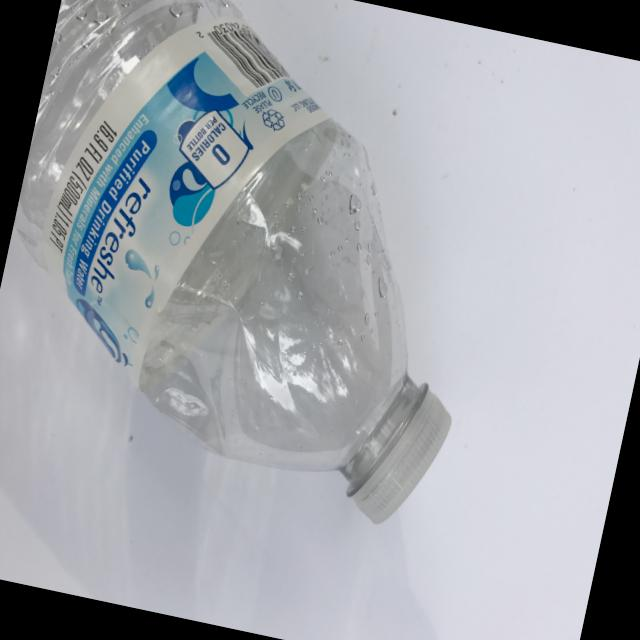Plastic: (0, 0, 543, 590)
